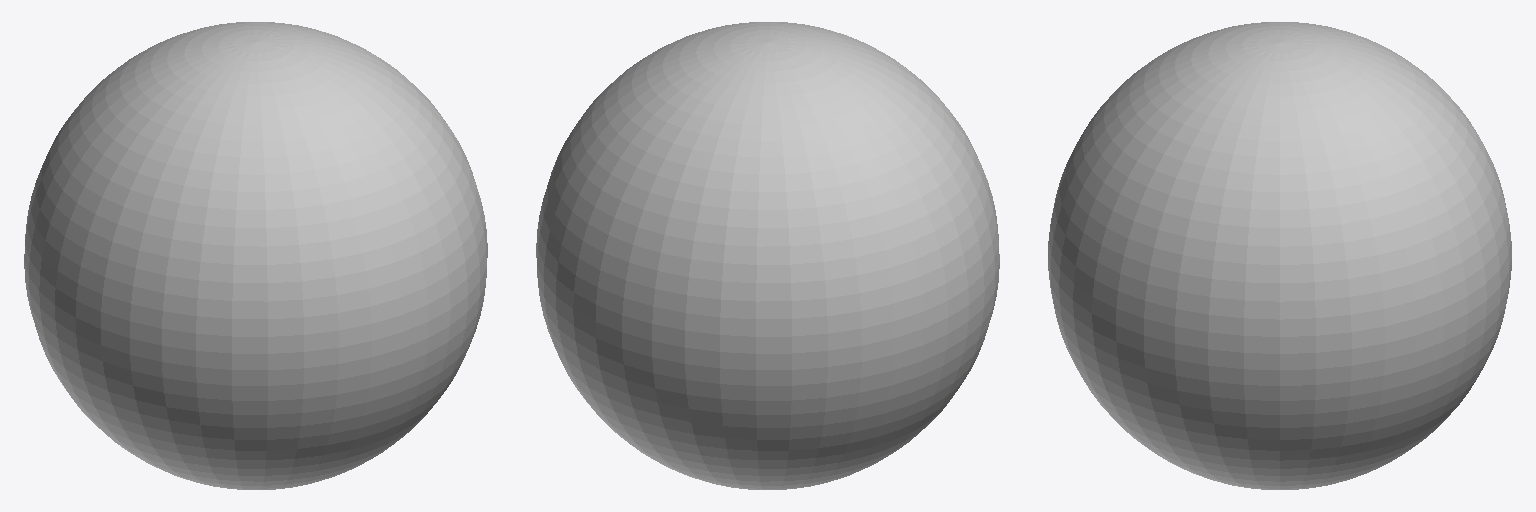
The model's file is BasicPlanet.obj.
The picture shows the model from 3 angles: view 1: azimuth 30°, elevation 25°; view 2: azimuth 150°, elevation 25°; view 3: azimuth 270°, elevation 25°; orthographic projection.
Visible parts, largest first — view 1: Planet; view 2: Planet; view 3: Planet.
Boxes of the visible parts, x1,y1,x2,y2 form: Planet: [24, 22, 487, 489]; Planet: [536, 22, 999, 489]; Planet: [1048, 22, 1511, 489].
Bounding box in the file's own units: 3.47 × 3.52 × 3.47.